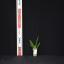leaf: (35, 36, 39, 48), (30, 40, 35, 48), (36, 43, 40, 48), (30, 44, 34, 48), (34, 45, 35, 48)
